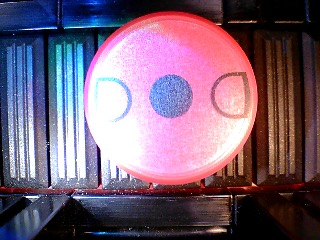BOHOMIPO2: (83, 10, 259, 186)
